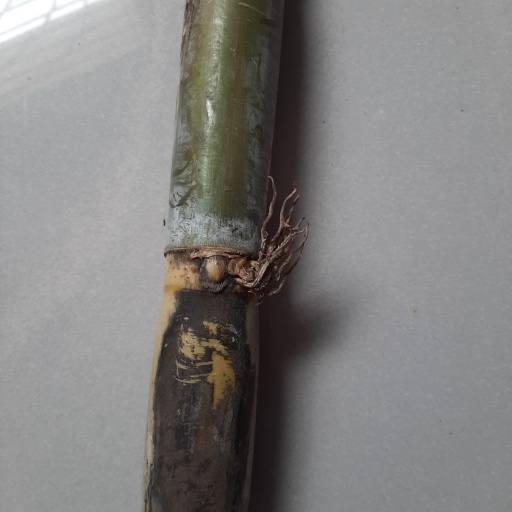Bud: (205, 257, 229, 284)
